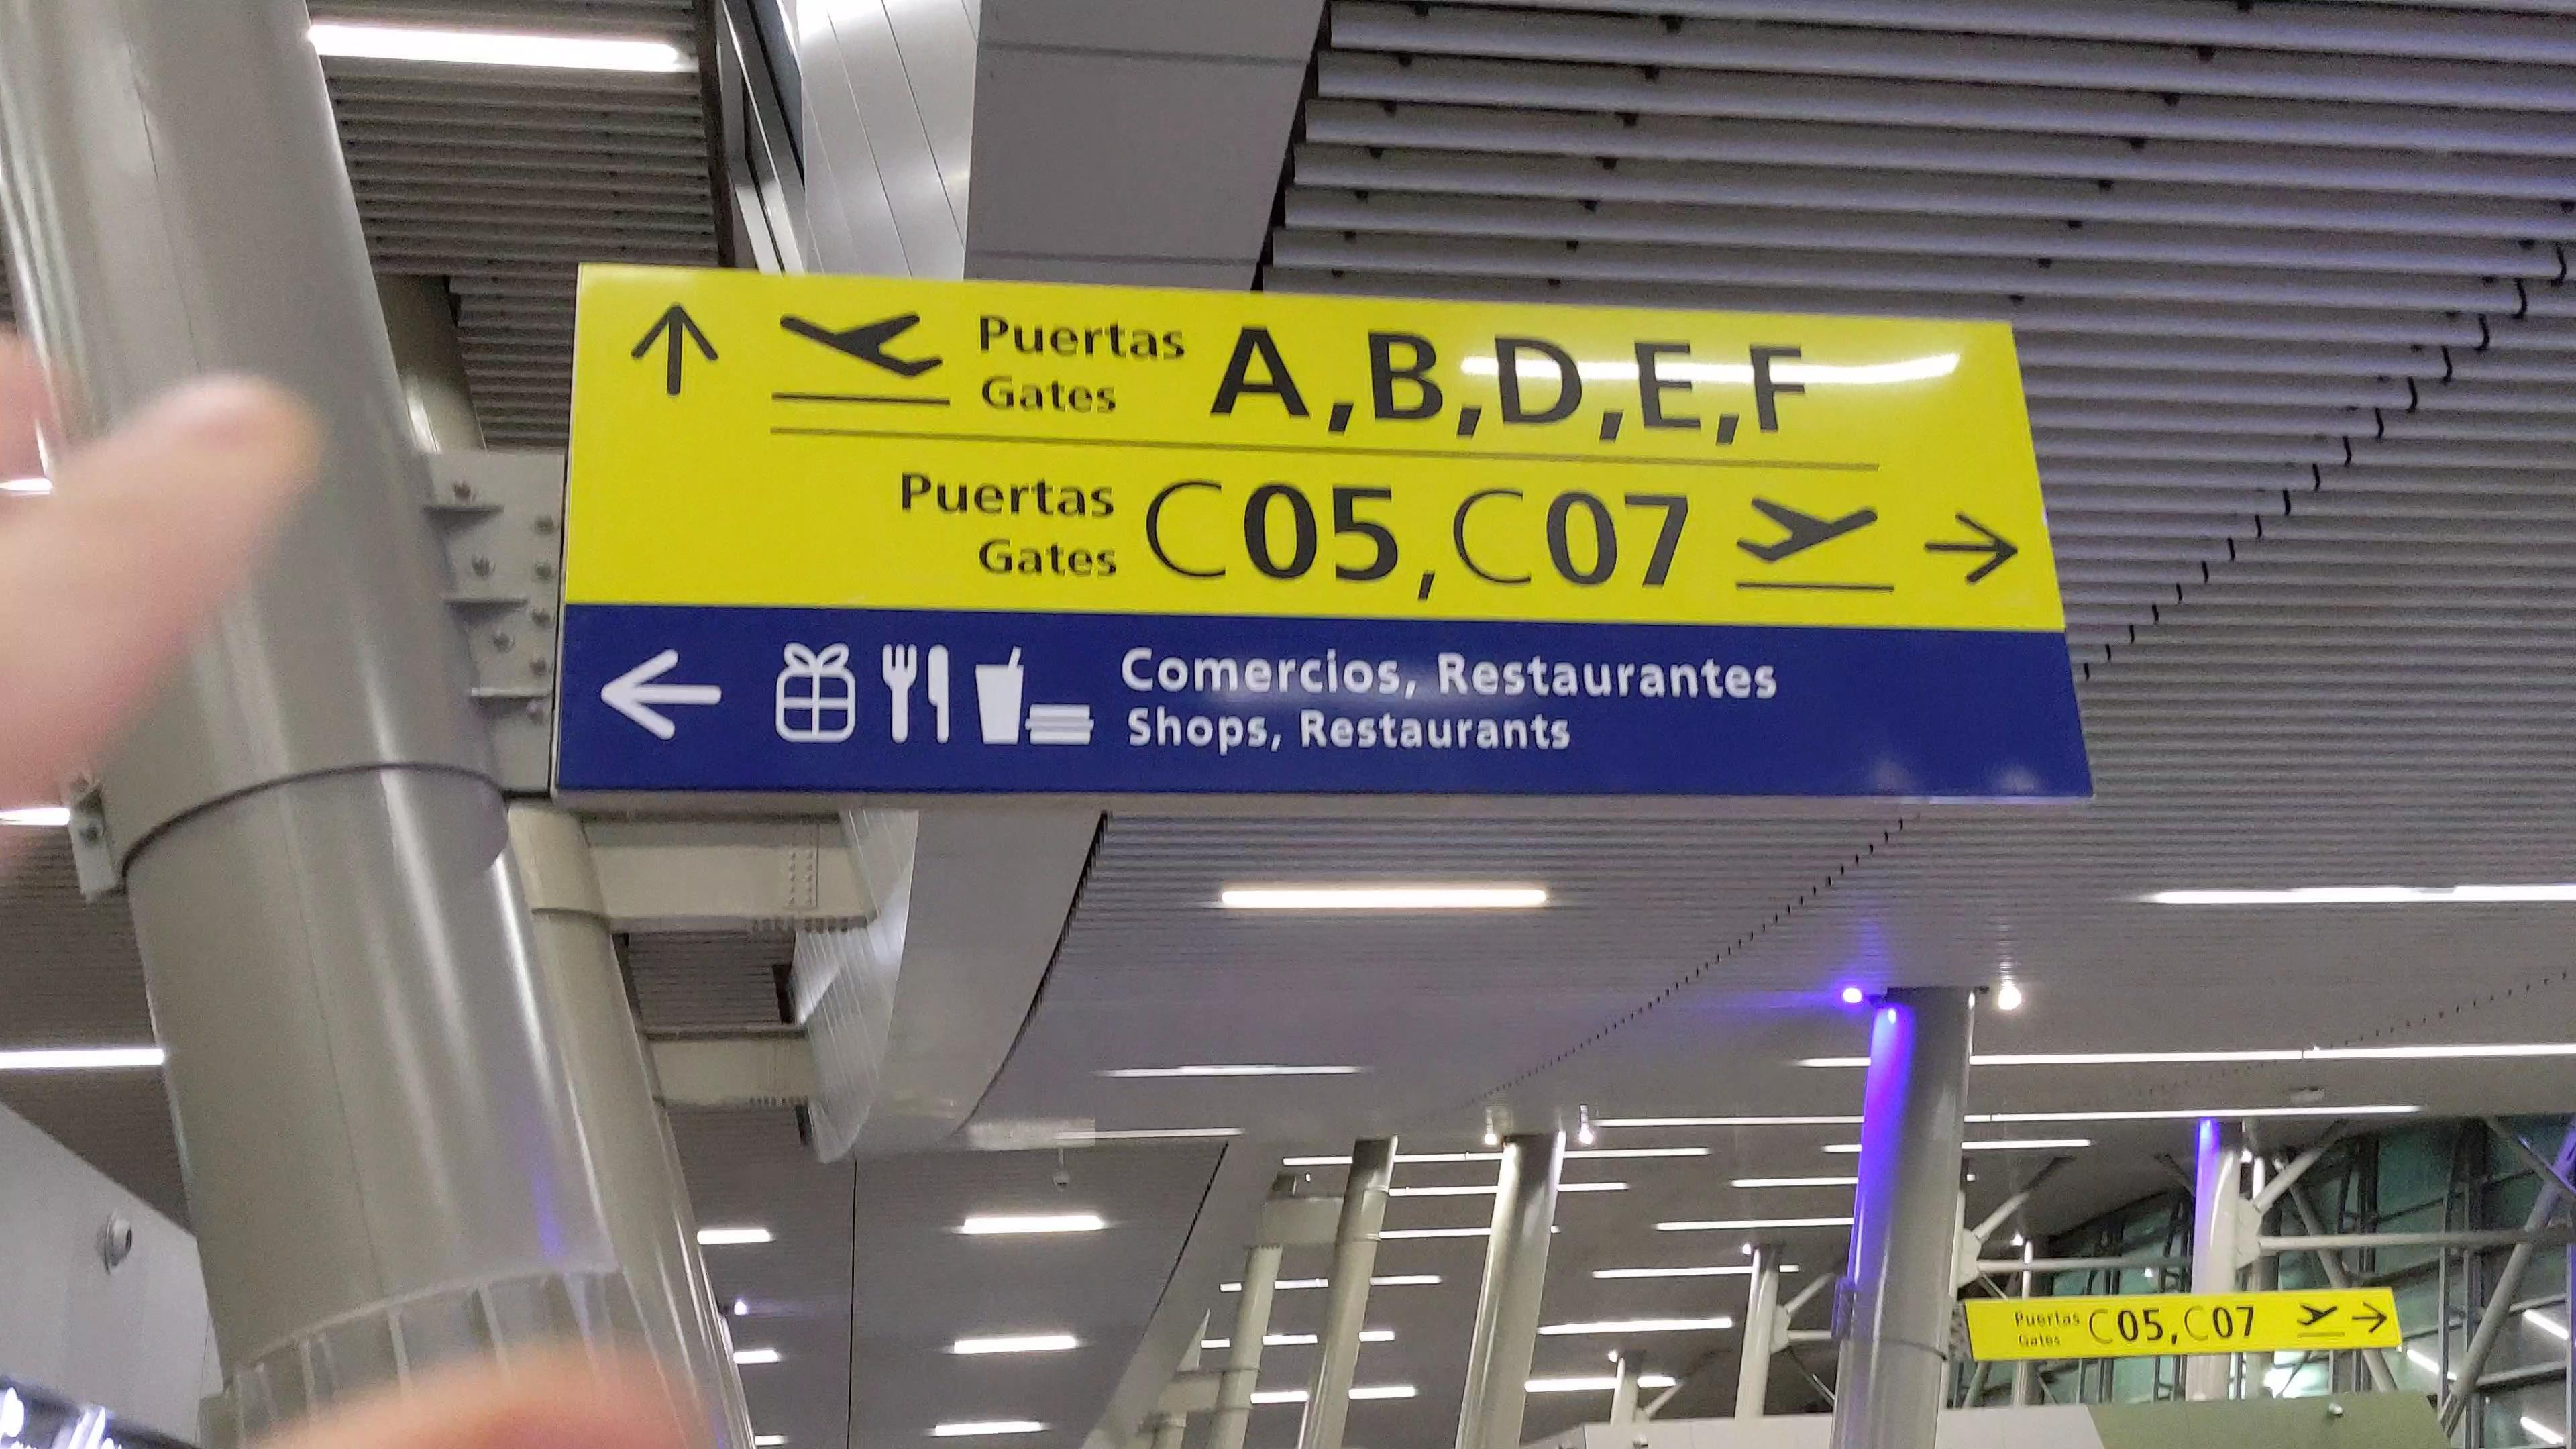airplane symbol: (770, 305, 954, 378), (1729, 497, 1893, 563), (2296, 1300, 2340, 1330)
restaurants: (873, 641, 963, 741)
thin left arrow: (594, 642, 737, 741)
thin right arrow: (1912, 508, 2021, 591), (2349, 1299, 2389, 1336)
thin up arrow: (625, 297, 726, 406)
